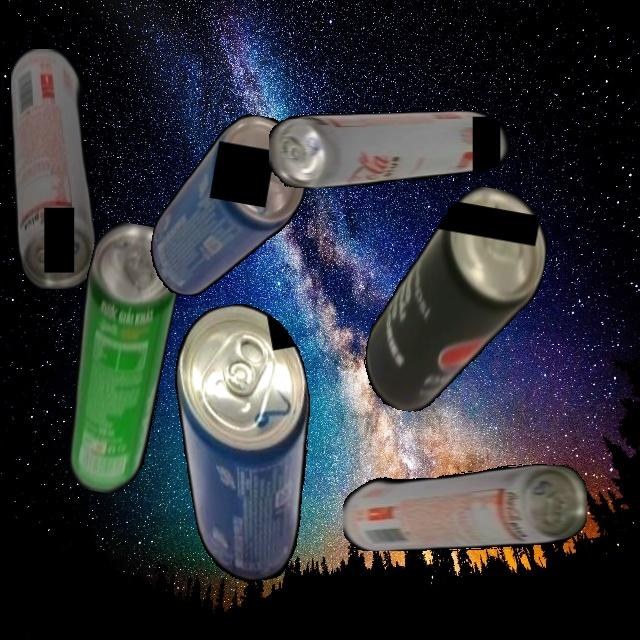debris: (161, 295, 339, 589), (357, 172, 557, 430), (51, 218, 188, 499), (144, 102, 315, 312), (342, 464, 587, 551), (10, 48, 95, 289), (269, 110, 513, 188)
